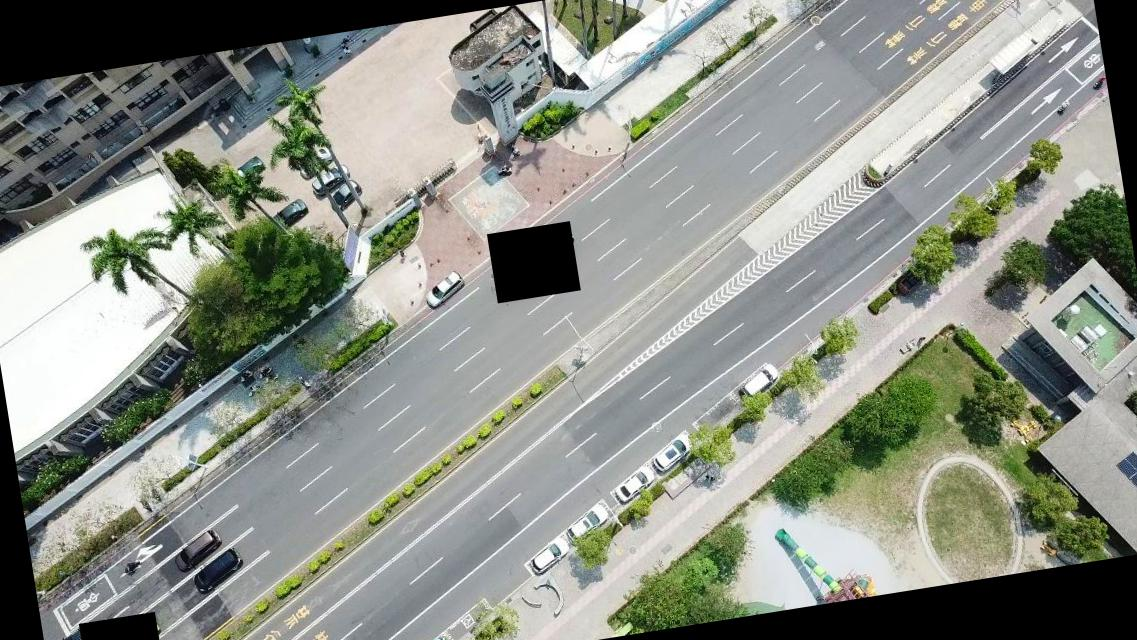vehicle: (173, 528, 225, 573), (194, 548, 246, 592), (646, 432, 698, 471), (422, 270, 464, 312), (566, 504, 610, 544), (530, 536, 576, 574), (739, 362, 782, 400), (612, 467, 656, 504), (295, 139, 337, 176), (307, 163, 350, 197), (271, 196, 311, 232), (222, 155, 266, 187), (48, 617, 103, 639), (327, 181, 364, 211)
